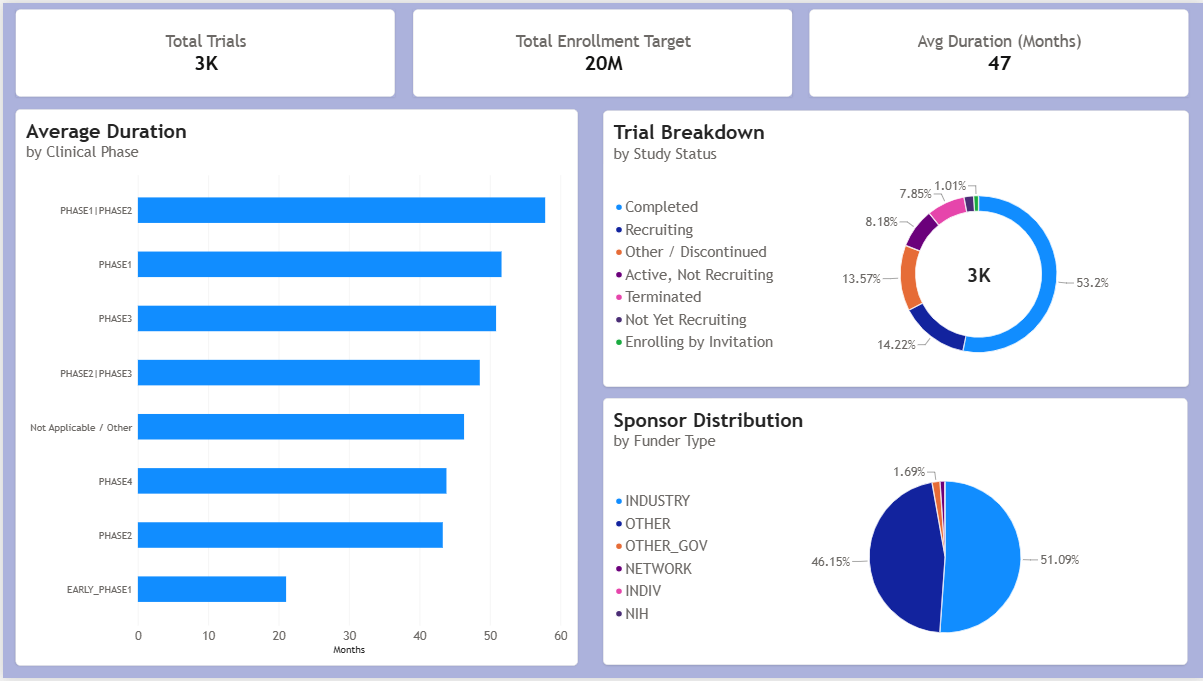

The page's visual inventory and layout, read from the dashboard file:
{"tool":"powerbi","page":{"name":"Executive Summary","canvas":[1920,1080],"ordinal":0},"visuals":[{"type":"cardVisual","fields":{"Data":["_Key Metrics.Total Trials"]},"box":[20,10,607.5,140],"z":0},{"type":"cardVisual","fields":{"Data":["_Key Metrics.Total Enrollment Target"]},"box":[655,10,607.5,140],"z":1000},{"type":"cardVisual","fields":{"Data":["_Key Metrics.Avg Duration (Months)"]},"box":[1290,10,607.5,140],"z":2000},{"type":"clusteredBarChart","title":"Average Duration","fields":{"Category":["cleaned_clinical_trials.phase_clean"],"Y":["_Key Metrics.Avg Duration (Months)"]},"box":[20,170,900,890],"z":3000},{"type":"donutChart","title":"Trial Breakdown","fields":{"Category":["cleaned_clinical_trials.status_clean"],"Y":["_Key Metrics.Total Trials"]},"box":[960,172.5,937.5,442.5],"z":4000},{"type":"pieChart","title":"Sponsor Distribution","fields":{"Category":["cleaned_clinical_trials.funder_type"],"Y":["_Key Metrics.Total Trials"]},"box":[960,632.5,935,427.5],"z":5000}]}

Visuals, with their boxes in screenshot pixels (x1, y1, x2, y2), scaled from the page's 1920x1080 canvas onto the 1203x681 screenshot:
cardVisual - _Key Metrics.Total Trials: <region>13, 6, 393, 95</region>
cardVisual - _Key Metrics.Total Enrollment Target: <region>410, 6, 791, 95</region>
cardVisual - _Key Metrics.Avg Duration (Months): <region>808, 6, 1189, 95</region>
"Average Duration" clusteredBarChart: <region>13, 107, 576, 668</region>
"Trial Breakdown" donutChart: <region>602, 109, 1189, 388</region>
"Sponsor Distribution" pieChart: <region>602, 399, 1187, 668</region>
